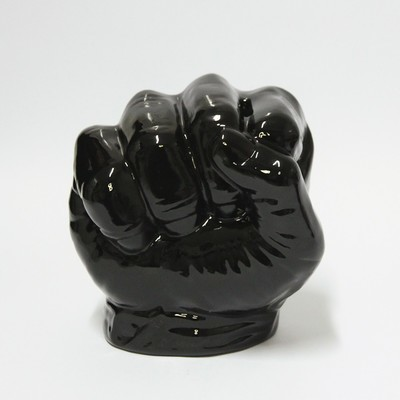closedhandfront: (49, 70, 329, 318)
